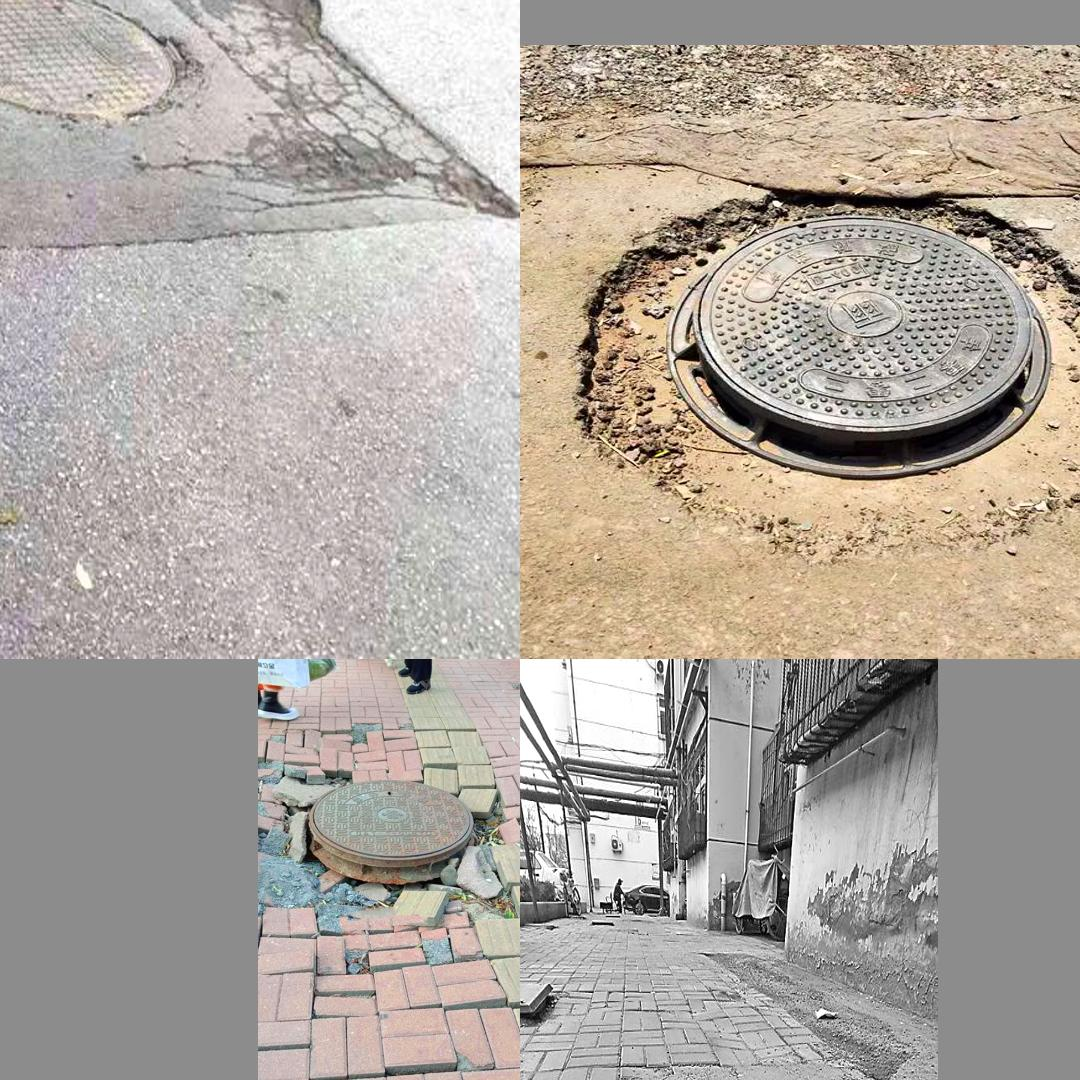circle: (581, 194, 1080, 554), (0, 0, 387, 237), (261, 735, 514, 980), (575, 1065, 937, 1080)
